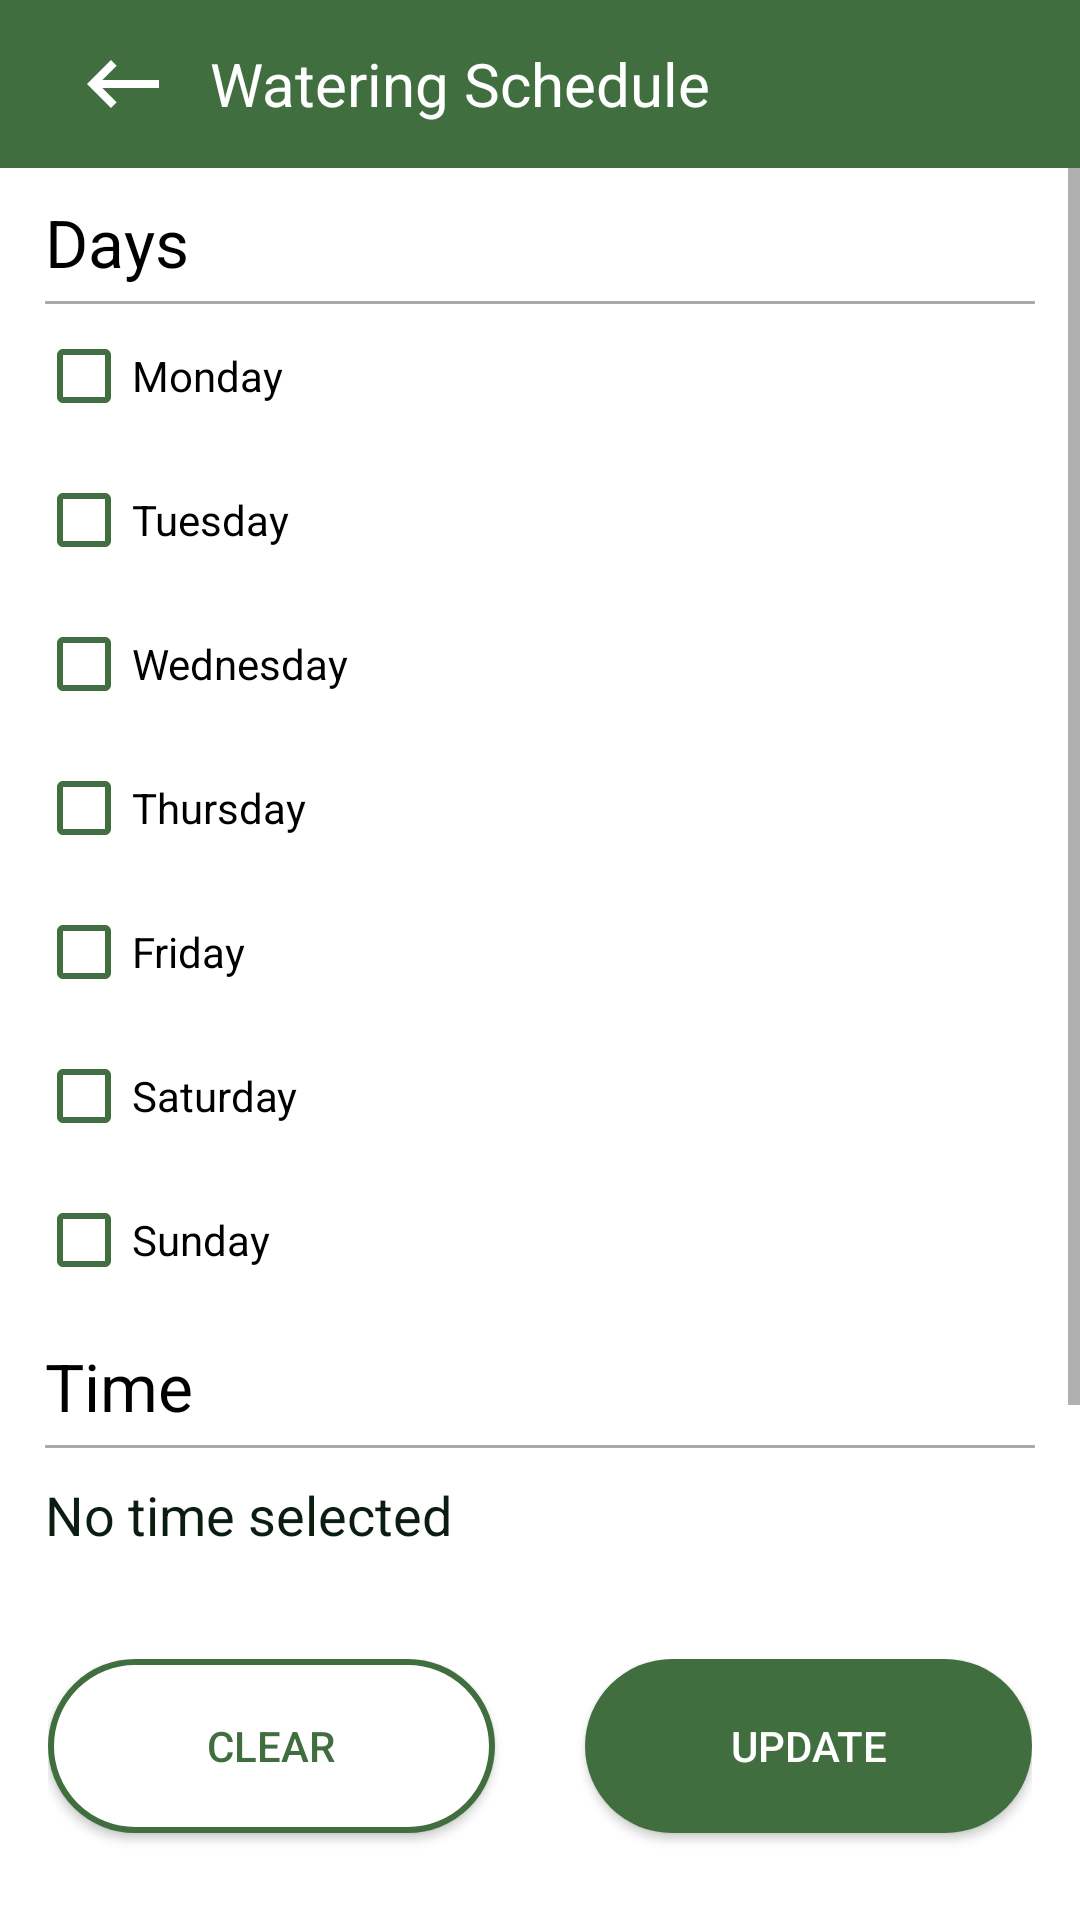

Screen size 1080px x 1920px. Icon name, then its center in pixels as (x,y):
Back button: (123,84)
